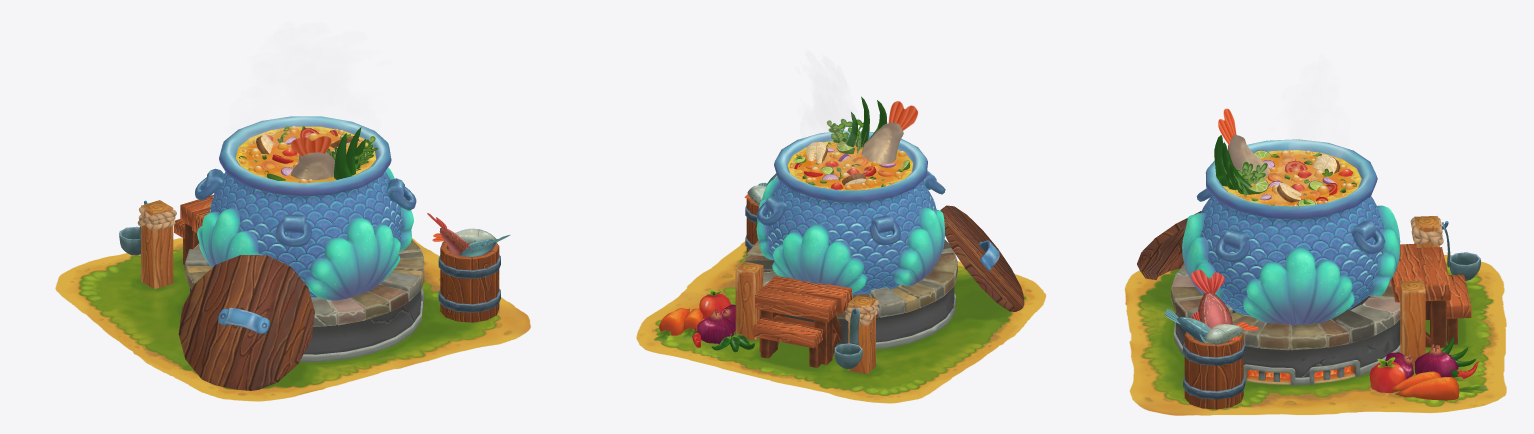
File: fishsoup_pot.glb
3 renders of one model, left to right at view 1: azimuth 30°, elevation 25°; view 2: azimuth 150°, elevation 25°; view 3: azimuth 270°, elevation 25°, orthographic. The views are drawn at different scales.
Parts seen in each view (by area): view 1: Plane.008, Plane.001, Plane.040, Sphere.030; view 2: Plane.008, Plane.001, Plane.040, Sphere.030; view 3: Plane.008, Plane.001, Plane.040, Sphere.030.
Part boxes in pixels (<box>): Plane.008: <box>119,116,500,390</box>; Plane.001: <box>55,126,531,401</box>; Plane.040: <box>240,28,378,170</box>; Sphere.030: <box>239,126,362,183</box>; Plane.008: <box>735,130,1024,374</box>; Plane.001: <box>636,96,1046,403</box>; Plane.040: <box>805,60,884,184</box>; Sphere.030: <box>789,151,906,189</box>; Plane.008: <box>1137,139,1480,409</box>; Plane.001: <box>1124,108,1506,415</box>; Plane.040: <box>1224,60,1344,205</box>; Sphere.030: <box>1270,150,1353,206</box>.
Bounding box in the file's own units: 5.11 × 4.16 × 5.11.
Materials: 4 (4 with a texture image).
